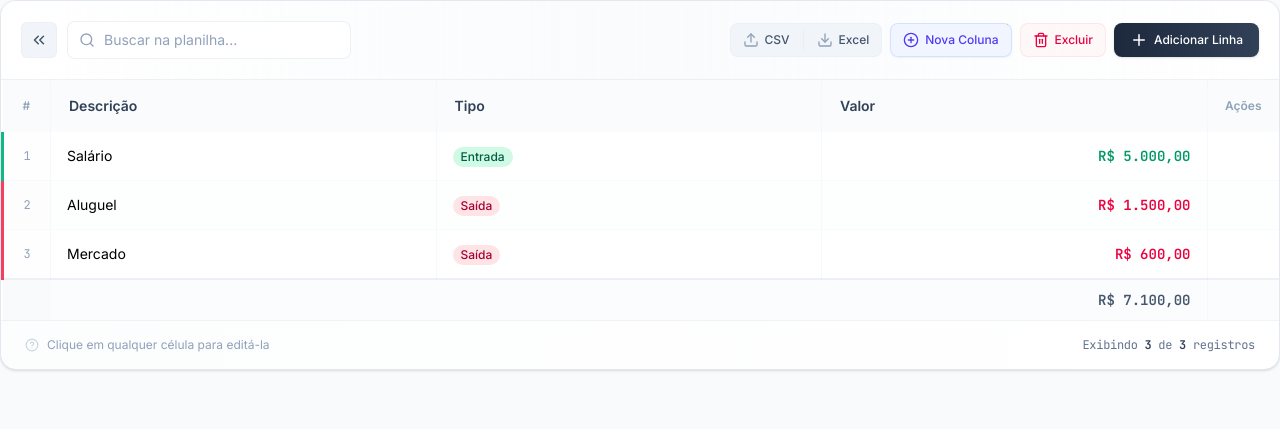
Test: Spreadsheet › shows empty message when search has no results
Type "zzzzzz" into the field with test id "spreadsheet-search".
click(209, 40); type("zzzzzz")  # box [67,21,351,59]
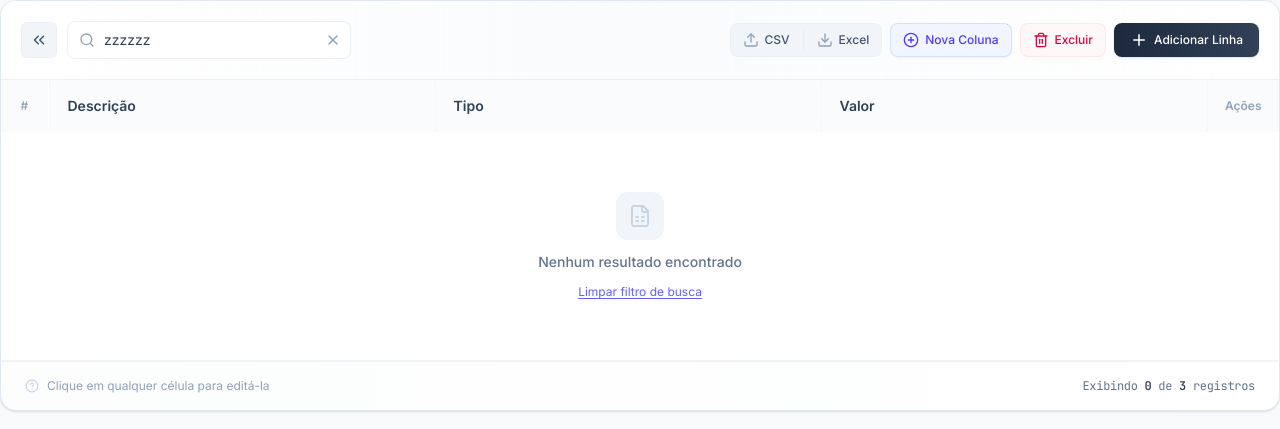
Check: the text "Nenhum resultado encontrado" is shown, box [538,252,742,272]
